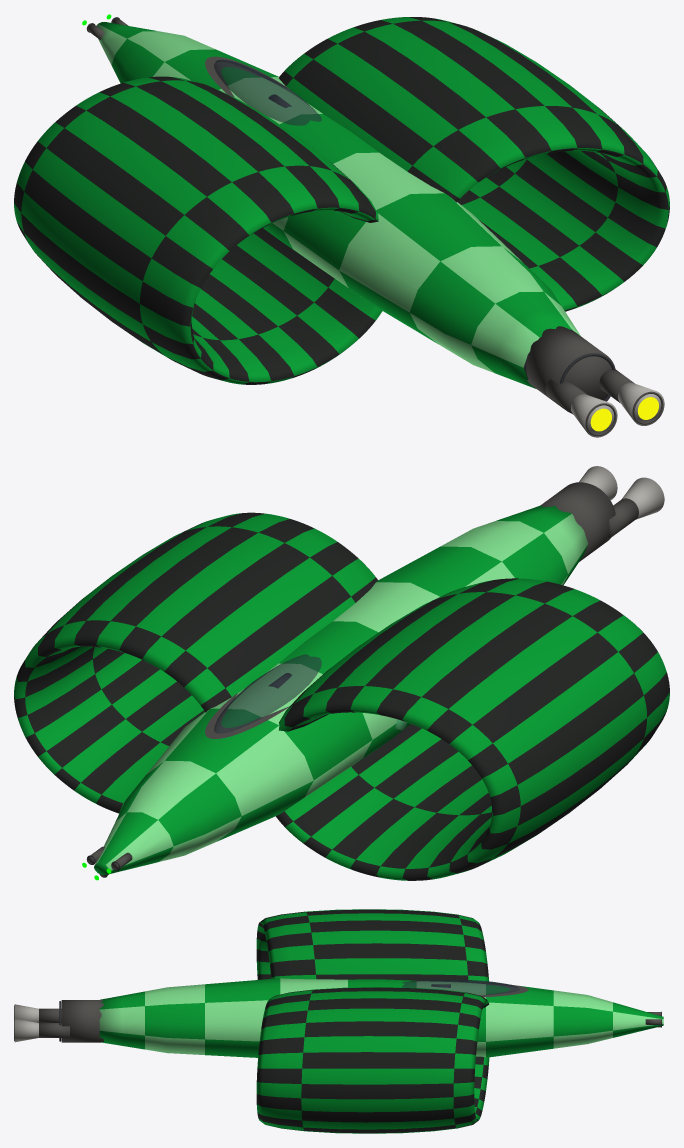
Rendered from Ship_TwoHoop_11695.glb.
3 views of the same model, one above another, from view 1: azimuth 30°, elevation 25°; view 2: azimuth 150°, elevation 25°; view 3: azimuth 270°, elevation 25° (orthographic). The views are drawn at different scales.
Parts seen in each view (by area): view 1: Hoop_Left_StructuralRing_YAxisHole_CenterTangent_AftSwept, Hoop_Right_StructuralRing_YAxisHole_CenterTangent_AftSwept, Fuselage_MainCenteredHull_CenterOfMassAtOrigin, EngineBlock_AftHullIntegratedMountPlate, CanopyGlass_LowForwardPodDome, EngineBell_Right_AftHullBurnishedNozzle, EngineBell_Left_AftHullBurnishedNozzle, CanopyFrame_LowInsetOvalRim, EngineEmitter, EngineThroat_Left_AftHullDarkSocket; view 2: Hoop_Left_StructuralRing_YAxisHole_CenterTangent_AftSwept, Hoop_Right_StructuralRing_YAxisHole_CenterTangent_AftSwept, Fuselage_MainCenteredHull_CenterOfMassAtOrigin, CanopyGlass_LowForwardPodDome, EngineBlock_AftHullIntegratedMountPlate, EngineBell_Left_AftHullBurnishedNozzle, CanopyFrame_LowInsetOvalRim, EngineThroat_Left_AftHullDarkSocket, EngineBell_Right_AftHullBurnishedNozzle; view 3: Hoop_Right_StructuralRing_YAxisHole_CenterTangent_AftSwept, Fuselage_MainCenteredHull_CenterOfMassAtOrigin, Hoop_Left_StructuralRing_YAxisHole_CenterTangent_AftSwept, EngineBlock_AftHullIntegratedMountPlate, CanopyGlass_LowForwardPodDome, EngineBell_Right_AftHullBurnishedNozzle, EngineThroat_Right_AftHullDarkSocket, EngineBell_Left_AftHullBurnishedNozzle.
Part boxes in pixels (x1,y1,x2,y2): Hoop_Left_StructuralRing_YAxisHole_CenterTangent_AftSwept: [14, 76, 382, 384]; Hoop_Right_StructuralRing_YAxisHole_CenterTangent_AftSwept: [279, 17, 669, 311]; Fuselage_MainCenteredHull_CenterOfMassAtOrigin: [96, 22, 580, 388]; EngineBlock_AftHullIntegratedMountPlate: [526, 326, 615, 412]; CanopyGlass_LowForwardPodDome: [214, 59, 321, 125]; EngineBell_Right_AftHullBurnishedNozzle: [618, 382, 664, 425]; EngineBell_Left_AftHullBurnishedNozzle: [571, 394, 617, 437]; CanopyFrame_LowInsetOvalRim: [205, 56, 289, 97]; EngineEmitter: [590, 397, 658, 431]; EngineThroat_Left_AftHullDarkSocket: [545, 379, 587, 414]; Hoop_Left_StructuralRing_YAxisHole_CenterTangent_AftSwept: [276, 578, 669, 880]; Hoop_Right_StructuralRing_YAxisHole_CenterTangent_AftSwept: [14, 512, 377, 813]; Fuselage_MainCenteredHull_CenterOfMassAtOrigin: [94, 505, 587, 874]; CanopyGlass_LowForwardPodDome: [214, 654, 321, 733]; EngineBlock_AftHullIntegratedMountPlate: [540, 482, 615, 561]; EngineBell_Left_AftHullBurnishedNozzle: [621, 477, 664, 519]; CanopyFrame_LowInsetOvalRim: [205, 693, 289, 738]; EngineThroat_Left_AftHullDarkSocket: [606, 498, 638, 539]; EngineBell_Right_AftHullBurnishedNozzle: [579, 466, 617, 500]; Hoop_Right_StructuralRing_YAxisHole_CenterTangent_AftSwept: [256, 987, 489, 1133]; Fuselage_MainCenteredHull_CenterOfMassAtOrigin: [99, 978, 663, 1057]; Hoop_Left_StructuralRing_YAxisHole_CenterTangent_AftSwept: [256, 909, 488, 981]; EngineBlock_AftHullIntegratedMountPlate: [61, 1000, 103, 1042]; CanopyGlass_LowForwardPodDome: [402, 979, 519, 995]; EngineBell_Right_AftHullBurnishedNozzle: [14, 1018, 38, 1042]; EngineThroat_Right_AftHullDarkSocket: [39, 1023, 69, 1037]; EngineBell_Left_AftHullBurnishedNozzle: [14, 1004, 38, 1022].
Bounding box in the file's own units: 4.14 × 1.54 × 7.36.
